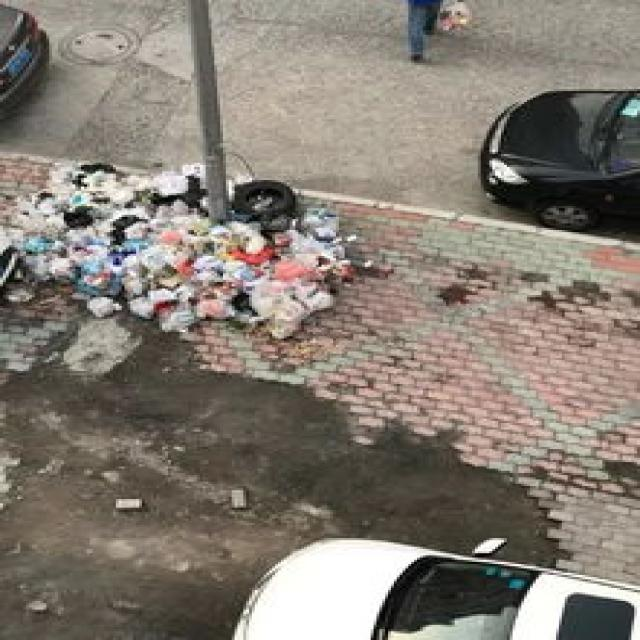garbage: (0, 153, 353, 338)
